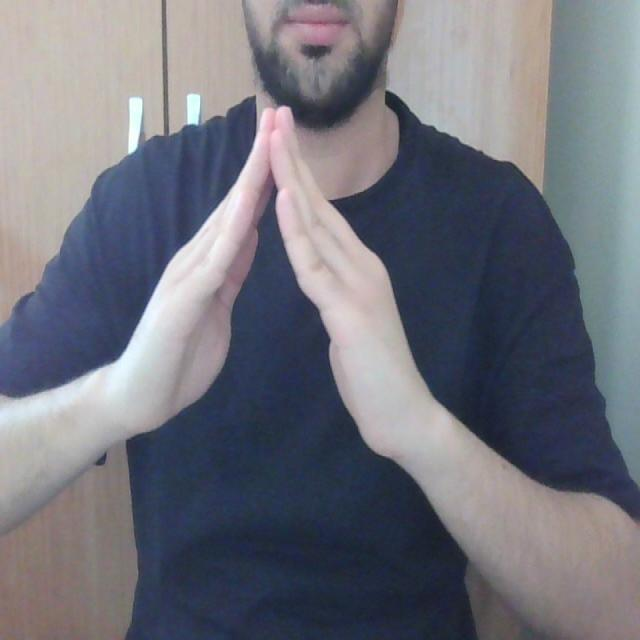Ev: (114, 93, 423, 462)
